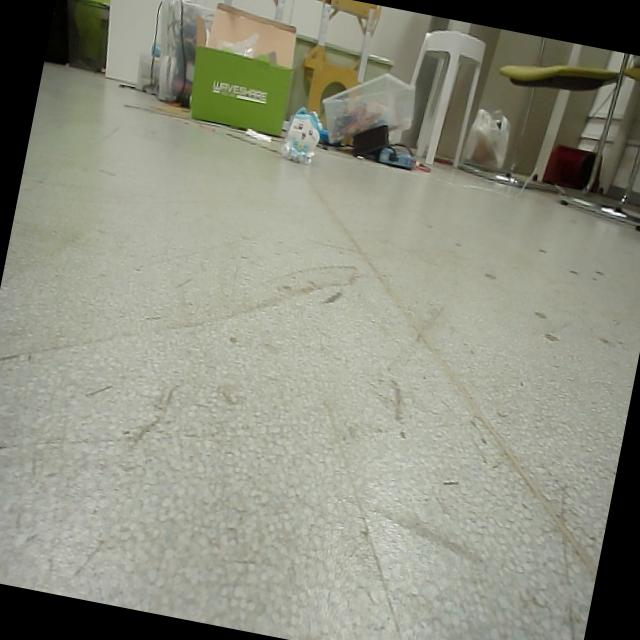xiaoba: (281, 104, 327, 170)
